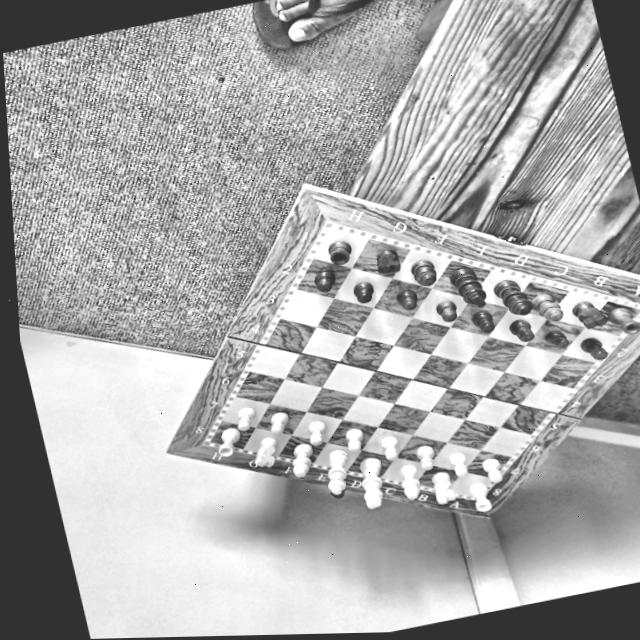black-bishop: (527, 289, 566, 325), (405, 256, 439, 288)
black-king: (444, 260, 490, 311)
black-knight: (566, 295, 613, 333), (373, 243, 403, 276)
black-pawn: (575, 333, 610, 363), (504, 316, 538, 344), (346, 278, 378, 306), (309, 266, 337, 296), (467, 307, 495, 336), (539, 326, 570, 352), (432, 298, 460, 325), (391, 287, 419, 312)
black-queen: (491, 272, 533, 320)
black-rook: (602, 300, 640, 338), (320, 234, 355, 269)
white-bishop: (282, 440, 319, 479), (394, 463, 423, 499)
white-king: (353, 454, 392, 509)
white-knight: (247, 432, 282, 469), (426, 468, 457, 506)
white-pawn: (229, 402, 261, 434), (300, 417, 329, 446), (262, 407, 290, 437), (476, 455, 504, 483), (340, 424, 367, 452), (377, 431, 402, 461), (447, 449, 469, 479), (413, 444, 434, 469)
white-queen: (316, 446, 356, 496)
white-rook: (209, 423, 245, 458), (465, 481, 494, 513)
